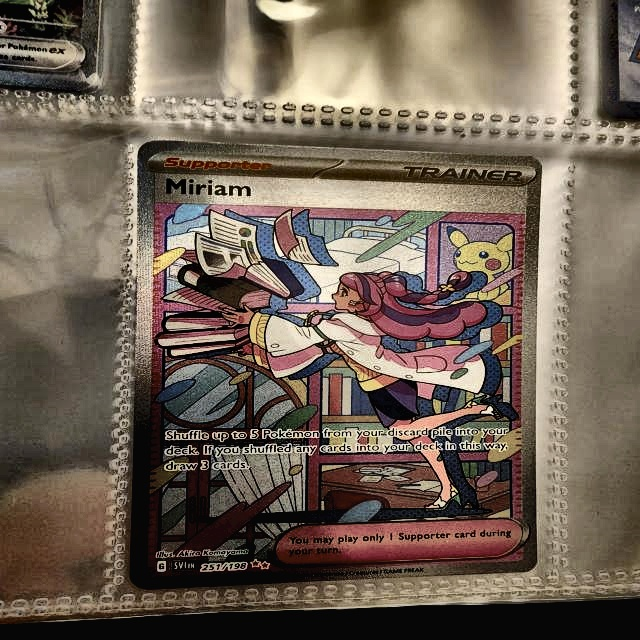card: (127, 138, 545, 591)
